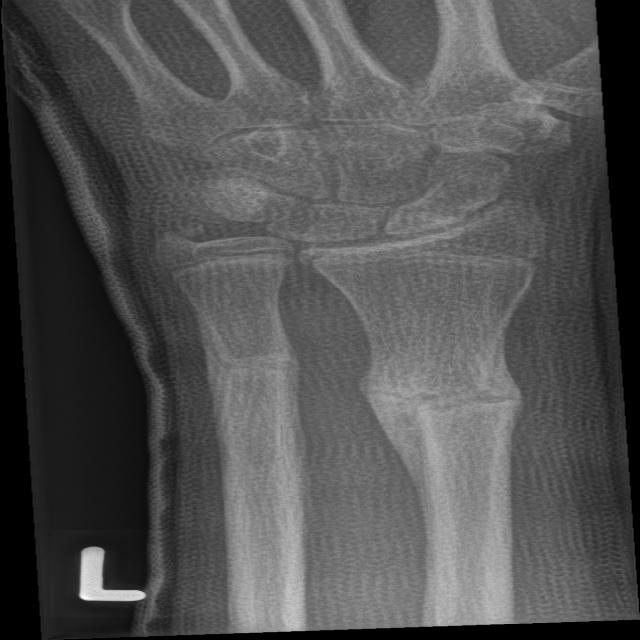radius fracture: (337, 334, 557, 488)
ulna fracture: (192, 308, 321, 438)
